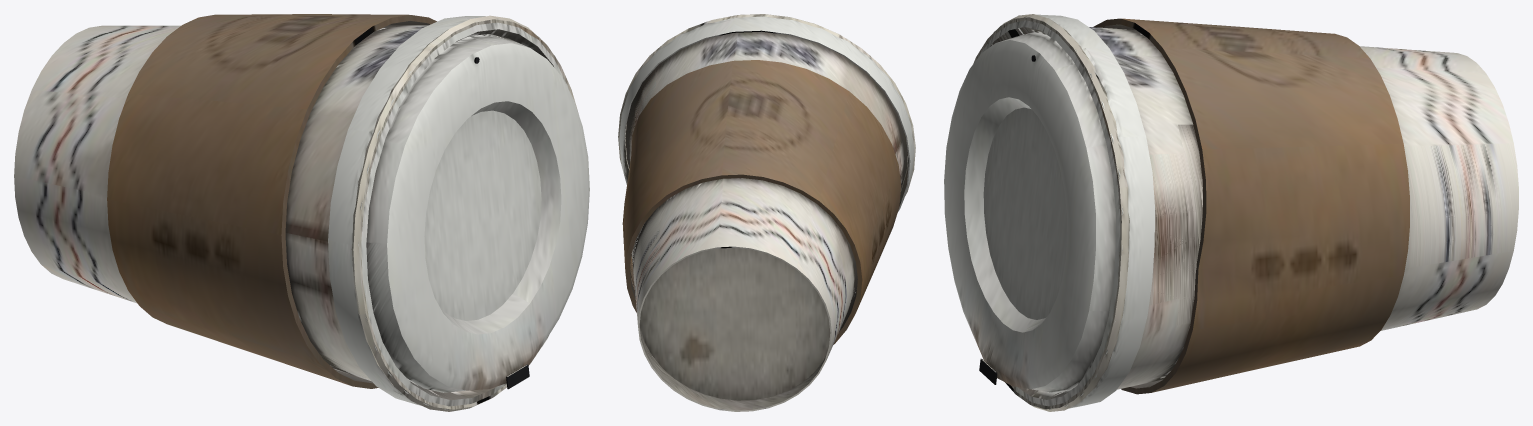
File: SM_PL_Takeout_CoffeeCup_dirty.fbx
The picture shows the model from 3 angles, left to right: view 1: azimuth 30°, elevation 25°; view 2: azimuth 150°, elevation 25°; view 3: azimuth 270°, elevation 25°; orthographic projection. The views are drawn at different scales.
Parts seen in each view (by area): view 1: SM_PL_Takeout_CoffeeCup_dirty; view 2: SM_PL_Takeout_CoffeeCup_dirty; view 3: SM_PL_Takeout_CoffeeCup_dirty.
Part boxes in pixels (box(x1,y1,x2,y2)): SM_PL_Takeout_CoffeeCup_dirty: box(14, 14, 589, 411); SM_PL_Takeout_CoffeeCup_dirty: box(618, 14, 915, 411); SM_PL_Takeout_CoffeeCup_dirty: box(944, 14, 1518, 411).
Size of the model in its own units: 0.1158 by 0.0939 by 0.1359.
1 material, 1 textured.
